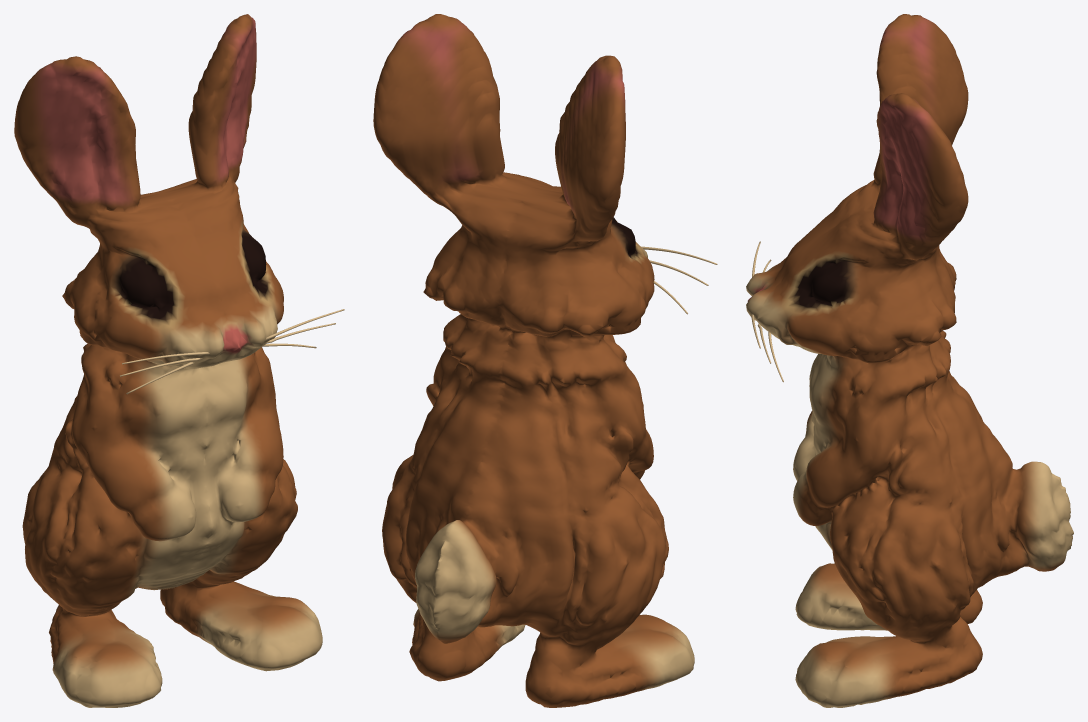
The model's file is asset.glb.
3 renders of one model, left to right at view 1: azimuth 30°, elevation 25°; view 2: azimuth 150°, elevation 25°; view 3: azimuth 270°, elevation 25°, orthographic. The views are drawn at different scales.
Parts seen in each view (by area): view 1: Rabbit_Neural_Body; view 2: Rabbit_Neural_Body; view 3: Rabbit_Neural_Body.
Part boxes in pixels (x1,y1,x2,y2): Rabbit_Neural_Body: (14,14,322,707); Rabbit_Neural_Body: (373,14,694,707); Rabbit_Neural_Body: (746,14,1073,707).
Bounding box in the file's own units: 1.55 × 3.6 × 1.78.
